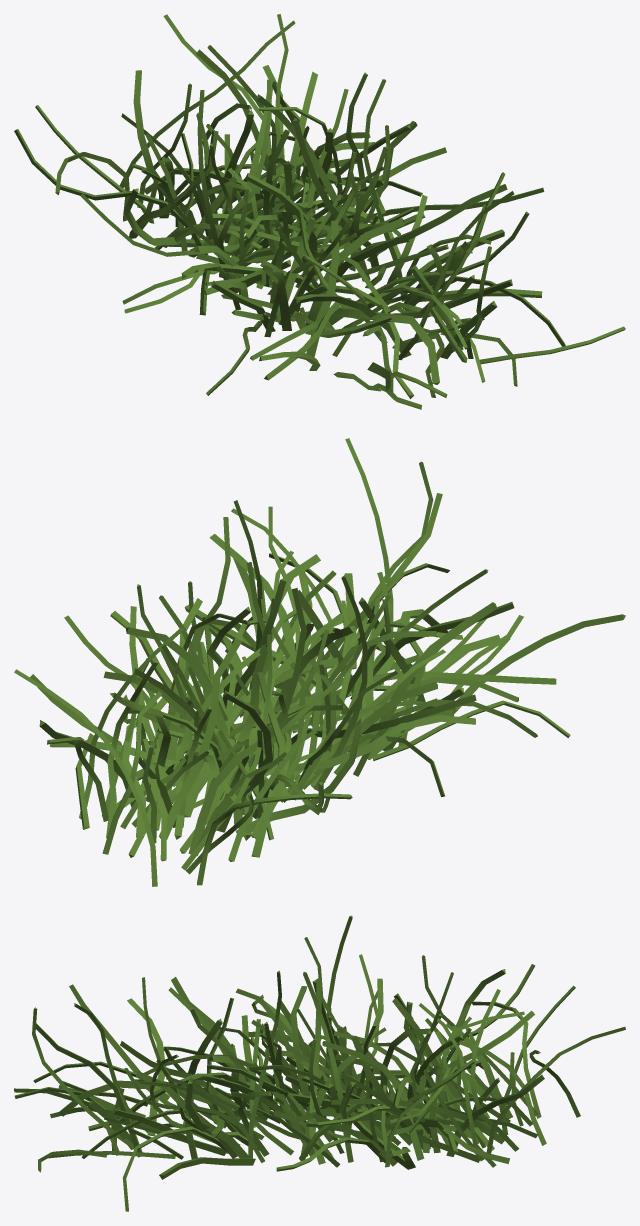
The model's file is plant_swamp_grass_short_triangulated_B.fbx.
3 renders of one model, top to bottom at view 1: azimuth 30°, elevation 25°; view 2: azimuth 150°, elevation 25°; view 3: azimuth 270°, elevation 25°, orthographic. The views are drawn at different scales.
Visible parts, largest first — view 1: plant_swamp_grass_short_triangulated_B; view 2: plant_swamp_grass_short_triangulated_B; view 3: plant_swamp_grass_short_triangulated_B.
Boxes of the visible parts, bbox=[...] form: plant_swamp_grass_short_triangulated_B: bbox=[14, 14, 625, 409]; plant_swamp_grass_short_triangulated_B: bbox=[14, 438, 625, 886]; plant_swamp_grass_short_triangulated_B: bbox=[14, 915, 625, 1211].
Size of the model in its own units: 385 by 196 by 541.
